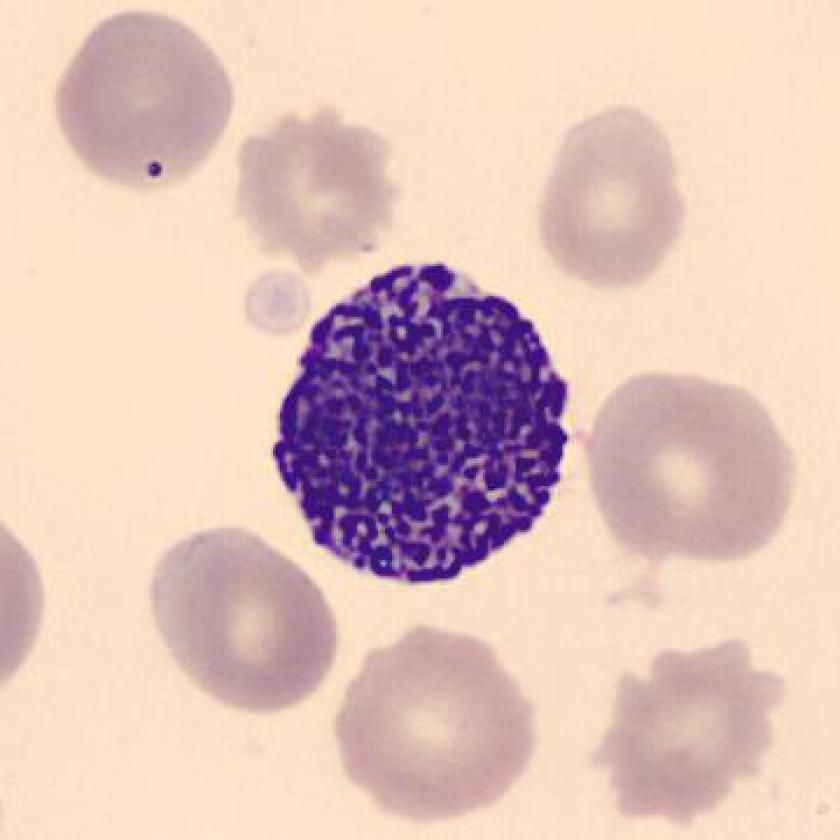basophil: (253, 244, 584, 591)
